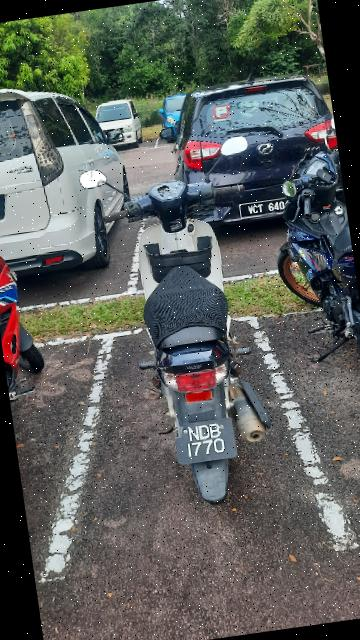License_Plate: (172, 411, 240, 468)
motorcycle: (74, 129, 303, 523)
